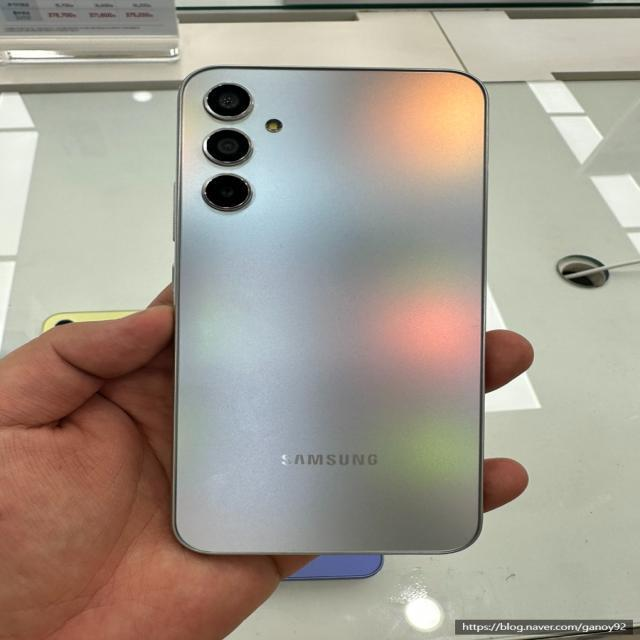phone: (176, 64, 482, 556)
